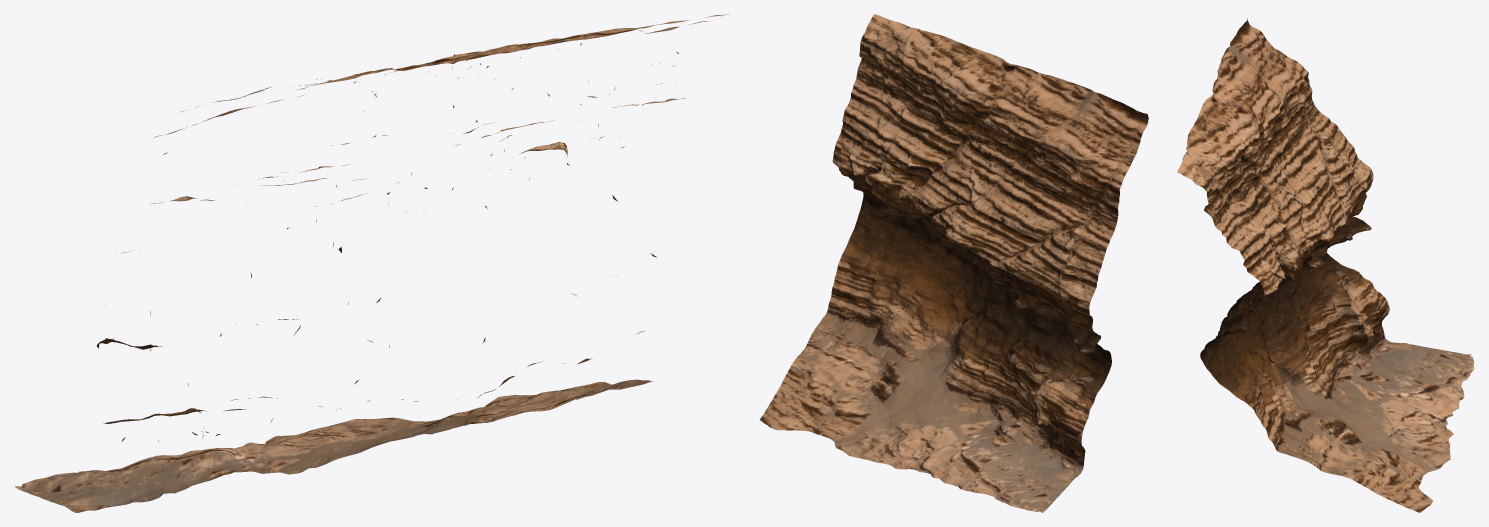
3 views of the same model, side by side, from view 1: azimuth 30°, elevation 25°; view 2: azimuth 150°, elevation 25°; view 3: azimuth 270°, elevation 25° (orthographic). The views are drawn at different scales.
Size of the model in its own units: 1.04 by 1.04 by 0.8277.
4 materials, 4 textured.
